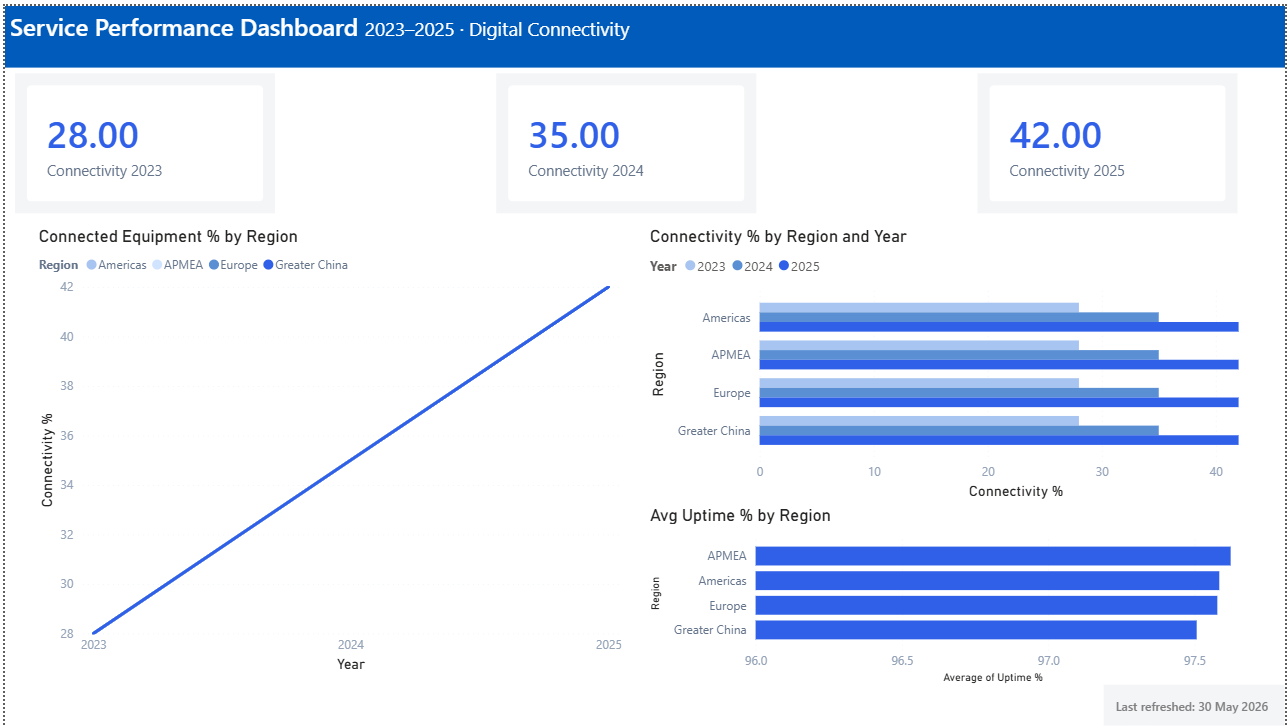

What the dashboard file says about the page in this screenshot:
{"tool":"powerbi","page":{"name":"Digital Connectivity","canvas":[1280,720],"ordinal":4},"visuals":[{"type":"textbox","box":[0,0,1280,61.4],"z":0},{"type":"cardVisual","fields":{"Data":["_Measures.Connectivity 2023"]},"box":[10,62,260,150],"z":1000},{"type":"cardVisual","fields":{"Data":["_Measures.Connectivity 2024"]},"box":[491,62,260,150],"z":2000},{"type":"cardVisual","fields":{"Data":["_Measures.Connectivity 2025"]},"box":[972,62,260,150],"z":3000},{"type":"lineChart","title":"Connected Equipment % by Region","fields":{"Category":["monthly_kpis.month_date.Variation.Date Hierarchy.Year"],"Y":["Avg(monthly_kpis.connectivity_pct)"],"Series":["monthly_kpis.region"]},"box":[28.6,220,592.9,451.4],"z":4000},{"type":"clusteredBarChart","title":"Connectivity % by Region and Year","fields":{"Y":["Avg(monthly_kpis.connectivity_pct)"],"Category":["monthly_kpis.region"],"Series":["monthly_kpis.year"]},"box":[640,220,640,278],"z":5000},{"type":"clusteredBarChart","title":"Avg Uptime % by Region","fields":{"Category":["monthly_kpis.region"],"Y":["Avg(monthly_kpis.uptime_pct)"]},"box":[640,498.6,602.9,184.3],"z":6000},{"type":"cardVisual","fields":{"Data":["New Measure.Last Refreshed"]},"box":[1098.3,678.3,181.7,41.7],"z":6001}]}

Visuals, with their boxes in screenshot pixels (x1, y1, x2, y2), scaled from the page's 1280x720 canvas onto the 1288x726 screenshot:
textbox: (left=0, top=0, right=1287, bottom=62)
cardVisual - _Measures.Connectivity 2023: (left=10, top=63, right=272, bottom=214)
cardVisual - _Measures.Connectivity 2024: (left=494, top=63, right=756, bottom=214)
cardVisual - _Measures.Connectivity 2025: (left=978, top=63, right=1240, bottom=214)
"Connected Equipment % by Region" lineChart: (left=29, top=222, right=625, bottom=677)
"Connectivity % by Region and Year" clusteredBarChart: (left=644, top=222, right=1287, bottom=502)
"Avg Uptime % by Region" clusteredBarChart: (left=644, top=503, right=1251, bottom=689)
cardVisual - New Measure.Last Refreshed: (left=1105, top=684, right=1287, bottom=725)
